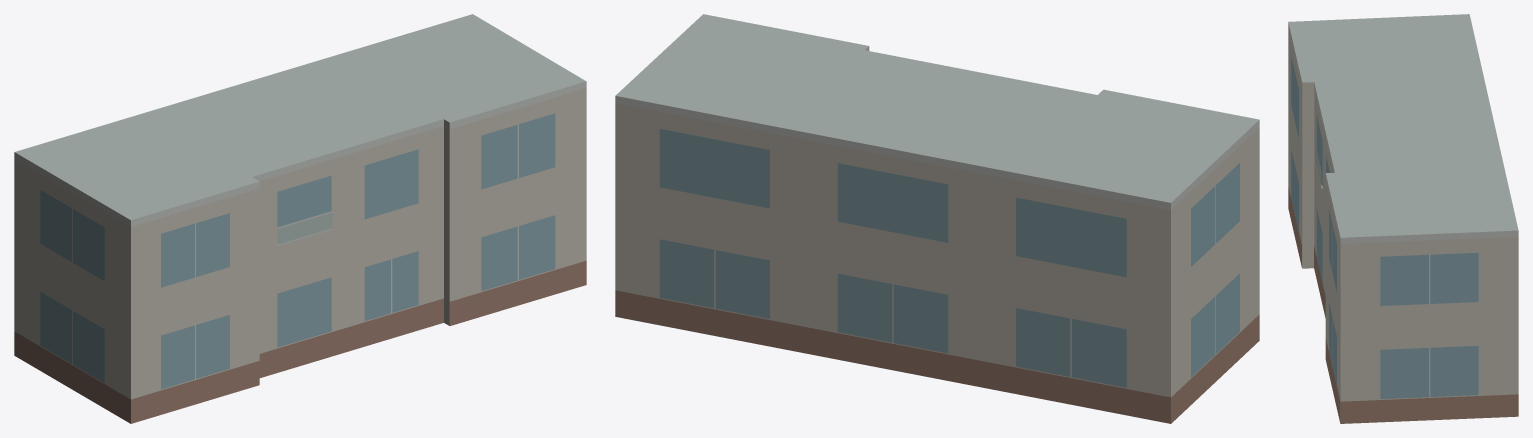
The model's file is survey-upis-32698142.glb.
The picture shows the model from 3 angles, left to right: view 1: azimuth 30°, elevation 25°; view 2: azimuth 150°, elevation 25°; view 3: azimuth 270°, elevation 25°; orthographic projection. The views are drawn at different scales.
Visible parts, largest first — view 1: survey-upis-32698142.tmp; view 2: survey-upis-32698142.tmp; view 3: survey-upis-32698142.tmp.
Part boxes in pixels (<box>): survey-upis-32698142.tmp: <box>14,14,586,423</box>; survey-upis-32698142.tmp: <box>615,14,1259,423</box>; survey-upis-32698142.tmp: <box>1288,14,1518,423</box>.
Bounding box in the file's own units: 19.09 × 7.4 × 8.31.
